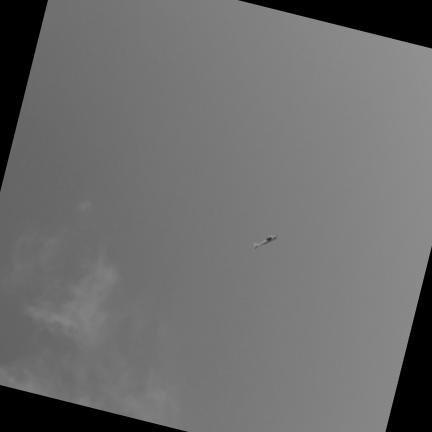Shahed: (252, 233, 277, 248)
